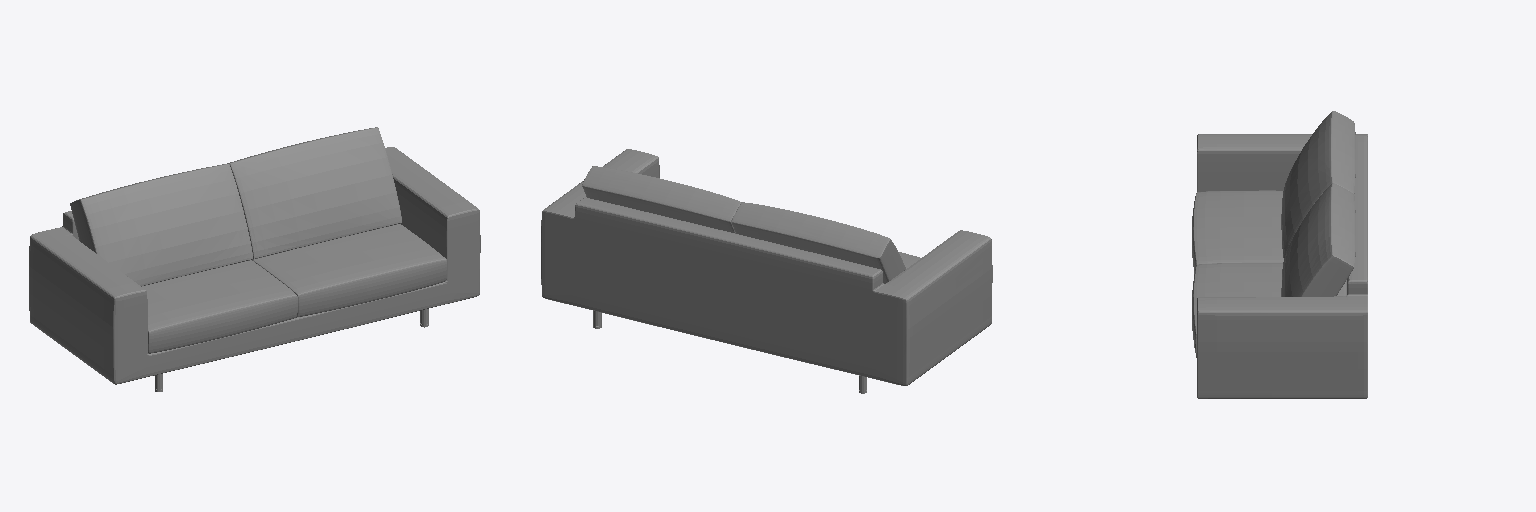
Rendered from couch.obj.
The picture shows the model from 3 angles: view 1: azimuth 30°, elevation 25°; view 2: azimuth 150°, elevation 25°; view 3: azimuth 270°, elevation 25°; orthographic projection.
Size of the model in its own units: 78.74 by 31.06 by 32.73.